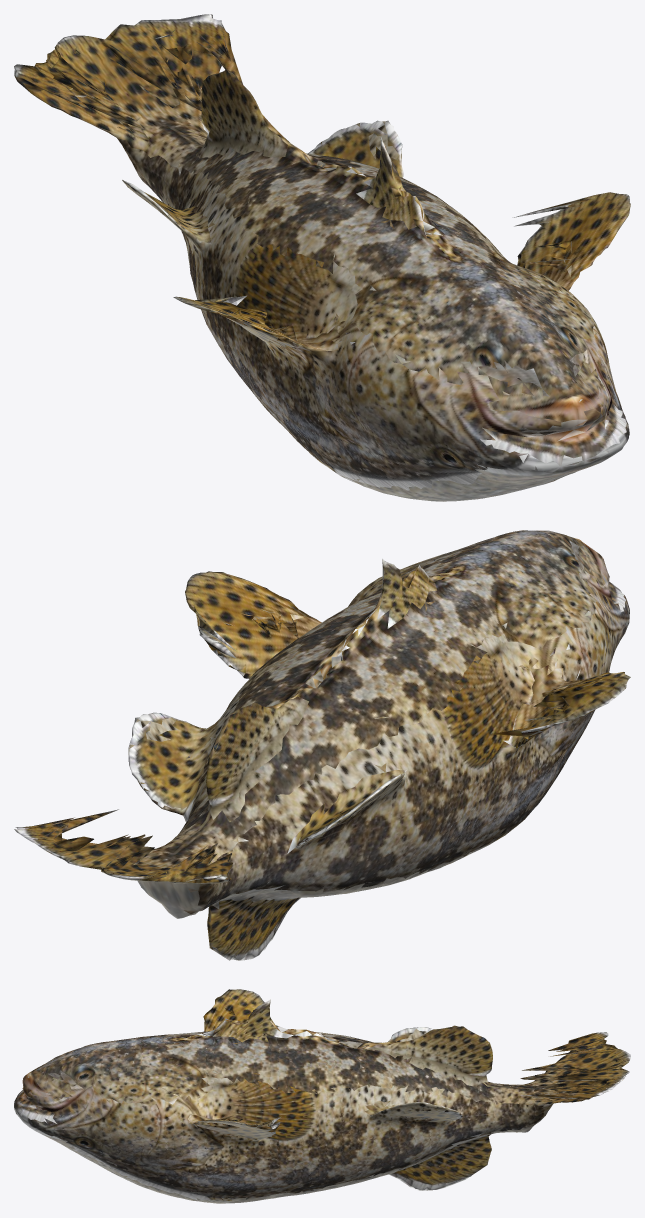
The model's file is fish_grouper2.glb.
3 views of the same model, one above another, from view 1: azimuth 30°, elevation 25°; view 2: azimuth 150°, elevation 25°; view 3: azimuth 270°, elevation 25° (orthographic). The views are drawn at different scales.
Visible parts, largest first — view 1: orient; view 2: orient; view 3: orient.
Part boxes in pixels (x1=…): orient: x1=14, y1=14, x2=630, y2=501; orient: x1=14, y1=530, x2=630, y2=960; orient: x1=14, y1=989, x2=630, y2=1203.
Size of the model in its own units: 1 by 0.6811 by 1.94.
Materials: 1 (1 with a texture image).
